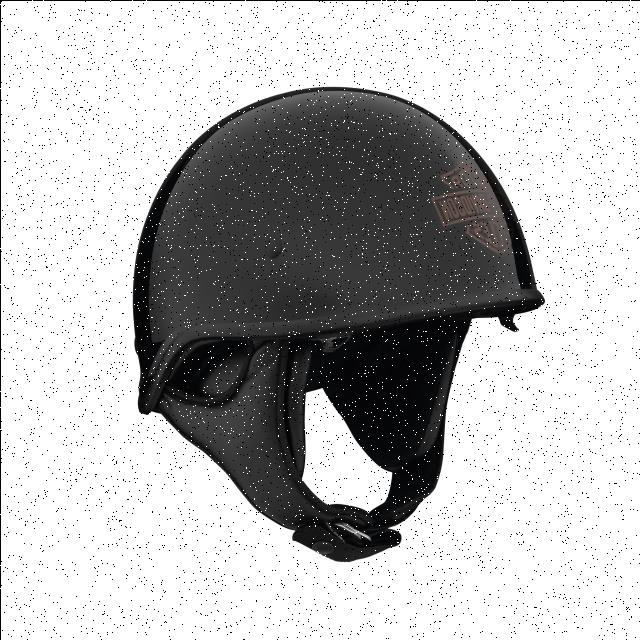Helmet: (132, 87, 542, 560)
